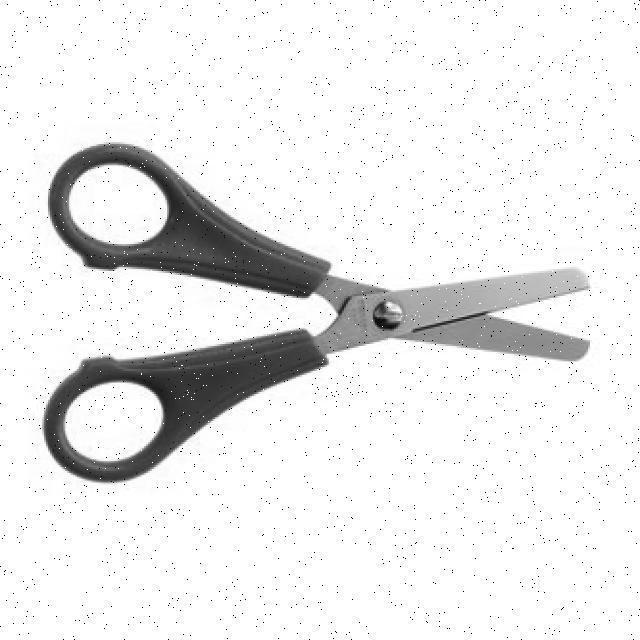scissors: (39, 137, 593, 484)
